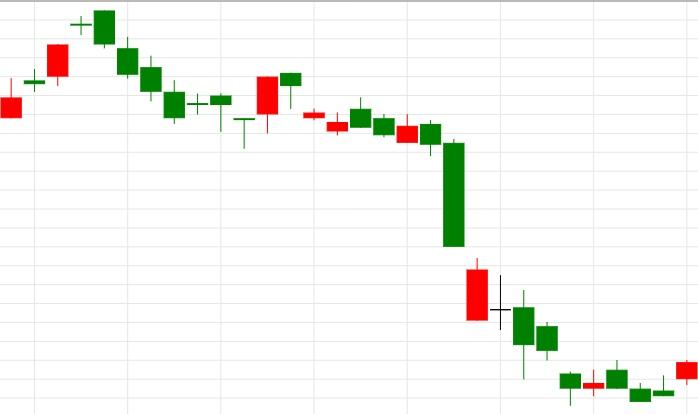morning_star_rise: (71, 10, 278, 149)
